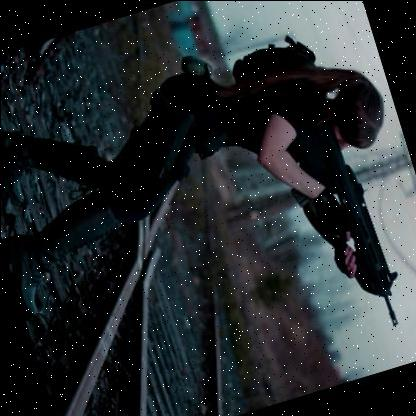rifle: (269, 98, 415, 347)
